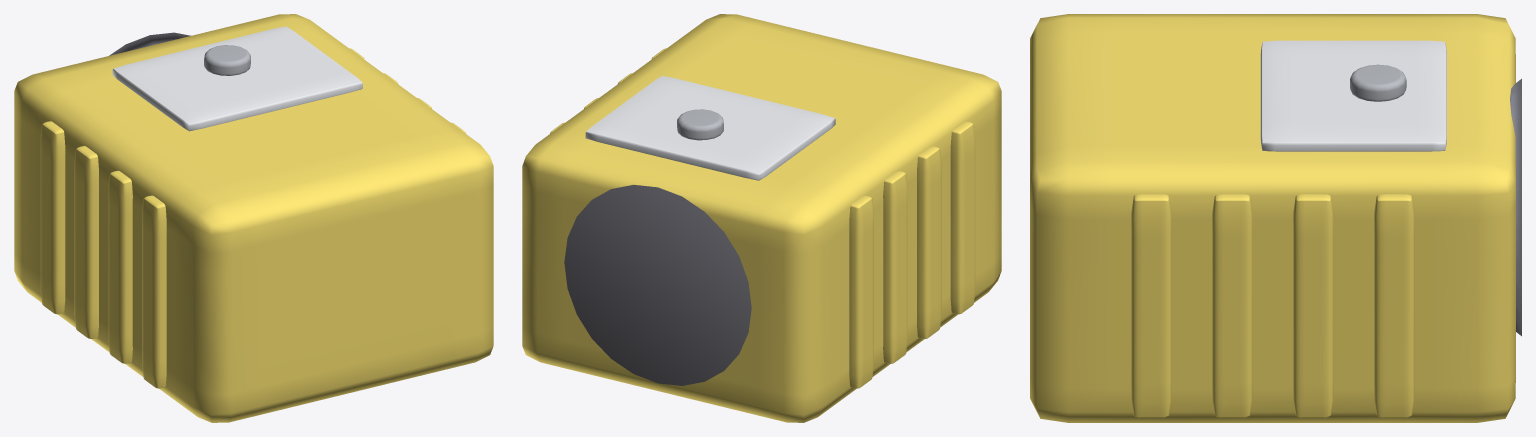
File: TraceRaceSharpener.glb
The picture shows the model from 3 angles, left to right: view 1: azimuth 30°, elevation 25°; view 2: azimuth 150°, elevation 25°; view 3: azimuth 270°, elevation 25°; orthographic projection. The views are drawn at different scales.
Visible parts, largest first — view 1: Body, Blade, Screw, Hole; view 2: Body, Hole, Blade, Screw; view 3: Body, Blade, Screw, Hole.
Part boxes in pixels (left/top/right/bottom): Body: left=14, top=14, right=493, bottom=422; Blade: left=112, top=26, right=362, bottom=131; Screw: left=204, top=45, right=250, bottom=75; Hole: left=109, top=32, right=190, bottom=55; Body: left=522, top=14, right=1001, bottom=422; Hole: left=564, top=184, right=751, bottom=385; Blade: left=585, top=76, right=835, bottom=180; Screw: left=677, top=109, right=723, bottom=140; Body: left=1030, top=14, right=1515, bottom=422; Blade: left=1260, top=40, right=1446, bottom=151; Screw: left=1350, top=64, right=1406, bottom=101; Hole: left=1510, top=78, right=1521, bottom=336.
Bounding box in the file's own units: 10.7 × 7.7 × 12.15.
